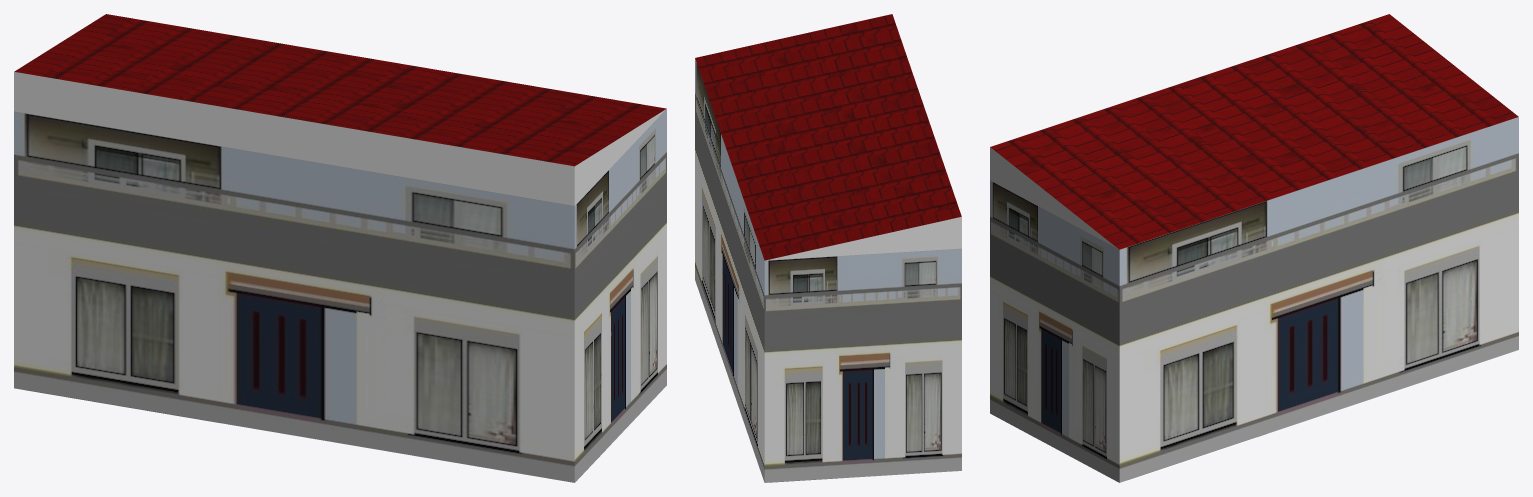
3 renders of one model, left to right at view 1: azimuth 30°, elevation 25°; view 2: azimuth 150°, elevation 25°; view 3: azimuth 270°, elevation 25°, orthographic. The views are drawn at different scales.
Visible parts, largest first — view 1: CityEngineMaterial_7_m, CityEngineMaterial_17_m, CityEngineMaterial_3_m; view 2: CityEngineMaterial_7_m, CityEngineMaterial_17_m, CityEngineMaterial_3_m; view 3: CityEngineMaterial_7_m, CityEngineMaterial_17_m, CityEngineMaterial_3_m.
Boxes of the visible parts, x1,y1,x2,y2 form: CityEngineMaterial_7_m: [14, 109, 666, 482]; CityEngineMaterial_17_m: [14, 14, 666, 166]; CityEngineMaterial_3_m: [14, 72, 665, 205]; CityEngineMaterial_7_m: [695, 58, 961, 482]; CityEngineMaterial_17_m: [695, 14, 961, 260]; CityEngineMaterial_3_m: [765, 216, 961, 260]; CityEngineMaterial_7_m: [990, 117, 1518, 482]; CityEngineMaterial_17_m: [990, 14, 1518, 249]; CityEngineMaterial_3_m: [990, 147, 1117, 248].
Size of the model in its own units: 11.78 by 7.23 by 13.
